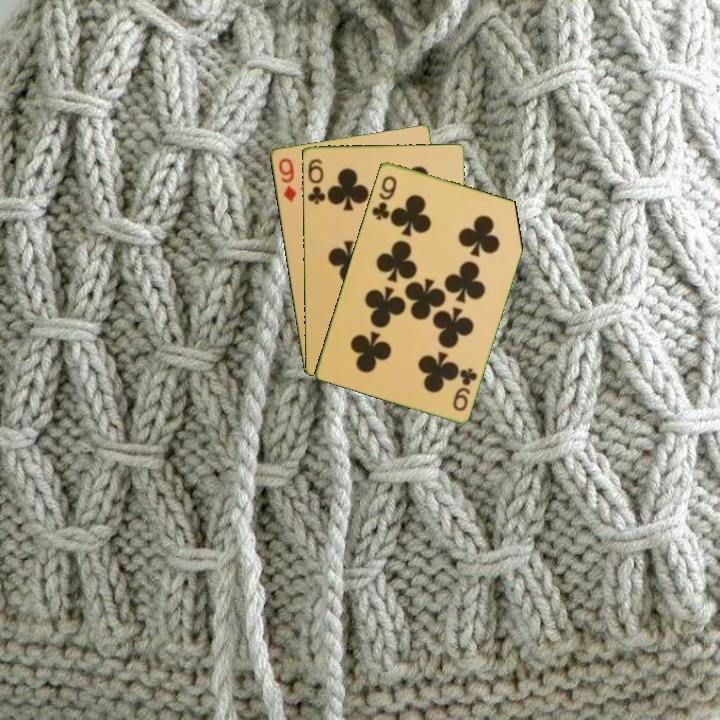6c: (304, 155, 328, 207)
9c: (368, 172, 400, 223), (449, 364, 480, 414)
9d: (275, 154, 299, 205)
